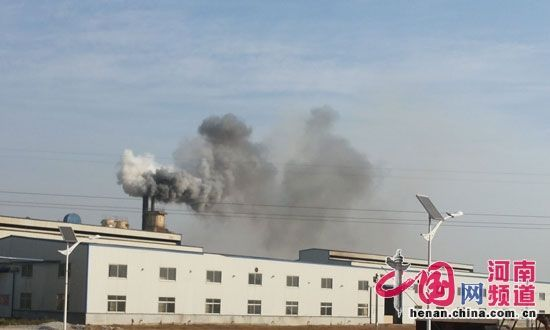dust: (117, 110, 254, 208)
